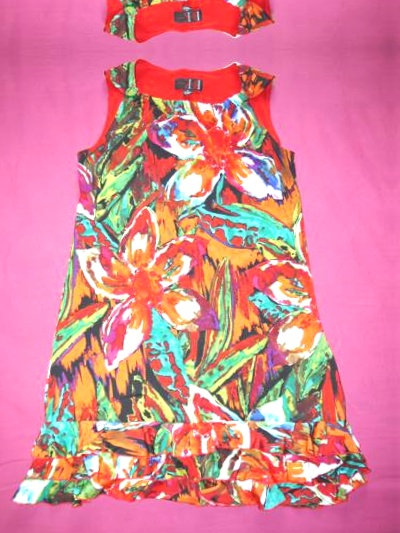Dress: (2, 60, 360, 532), (0, 0, 355, 40)
